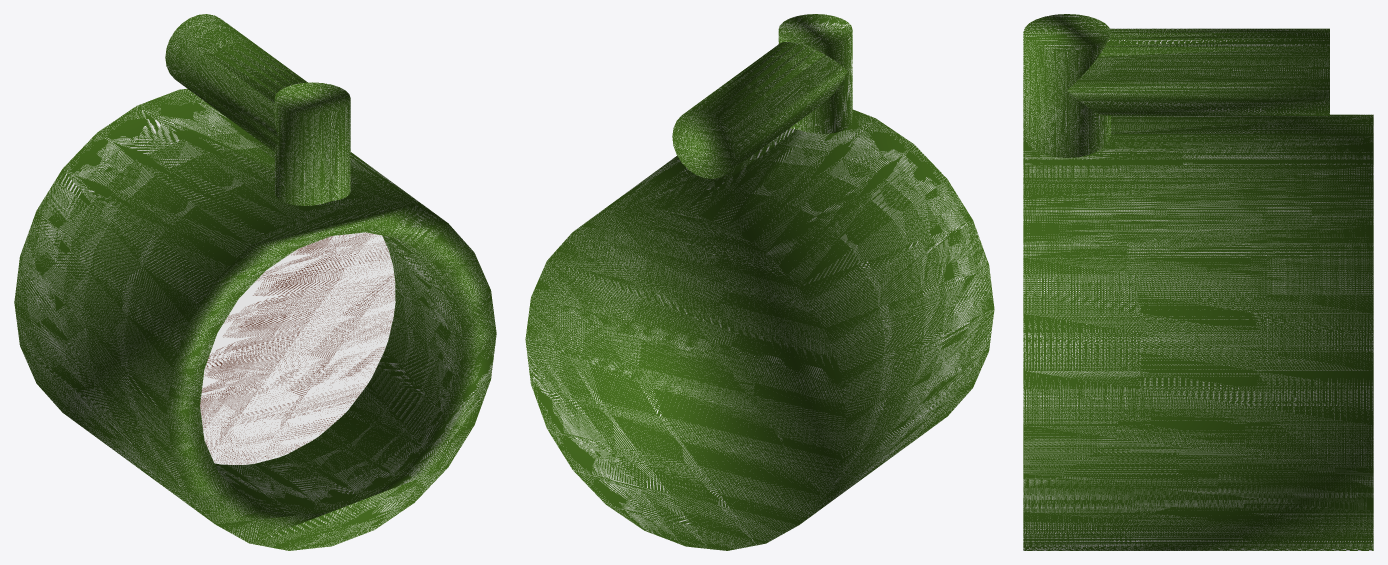
Rendered from model_align.obj.
3 views of the same model, side by side, from view 1: azimuth 30°, elevation 25°; view 2: azimuth 150°, elevation 25°; view 3: azimuth 270°, elevation 25° (orthographic). The views are drawn at different scales.
Visible parts, largest first — view 1: mesh1_mesh1-geometry, mesh3_mesh3-geometry, mesh2_mesh2-geometry; view 2: mesh1_mesh1-geometry, mesh2_mesh2-geometry; view 3: mesh1_mesh1-geometry, mesh2_mesh2-geometry.
Boxes of the visible parts, x1=… form: mesh1_mesh1-geometry: x1=14, y1=88, x2=496, y2=550; mesh3_mesh3-geometry: x1=200, y1=232, x2=395, y2=464; mesh2_mesh2-geometry: x1=165, y1=14, x2=350, y2=205; mesh1_mesh1-geometry: x1=525, y1=109, x2=994, y2=550; mesh2_mesh2-geometry: x1=672, y1=14, x2=852, y2=178; mesh1_mesh1-geometry: x1=1023, y1=114, x2=1373, y2=550; mesh2_mesh2-geometry: x1=1023, y1=14, x2=1329, y2=157.
Size of the model in its own units: 0.096 by 0.1206 by 0.0768.
